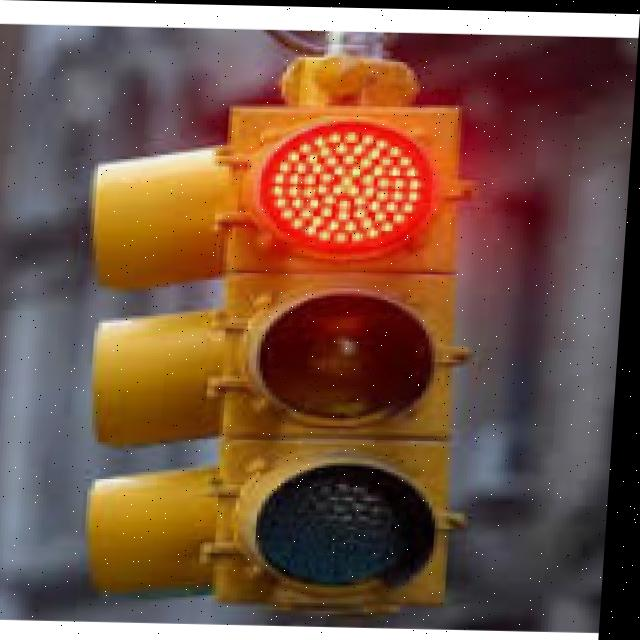light_traffic: (21, 14, 550, 628)
